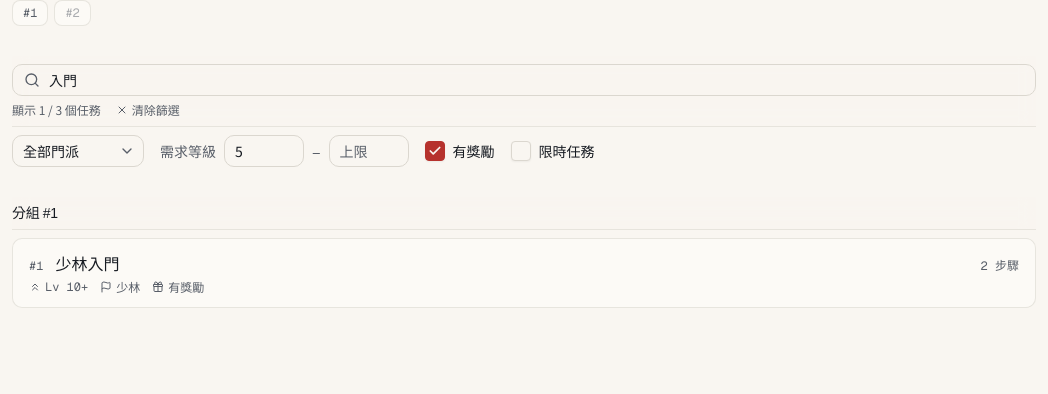
Test: MissionList 篩選 ↔ URL › 清除篩選保留搜尋字
The width and height of the screenshot is (1048, 394).
Click the button "清除篩選" at (148, 110), box [109,98,187,122]
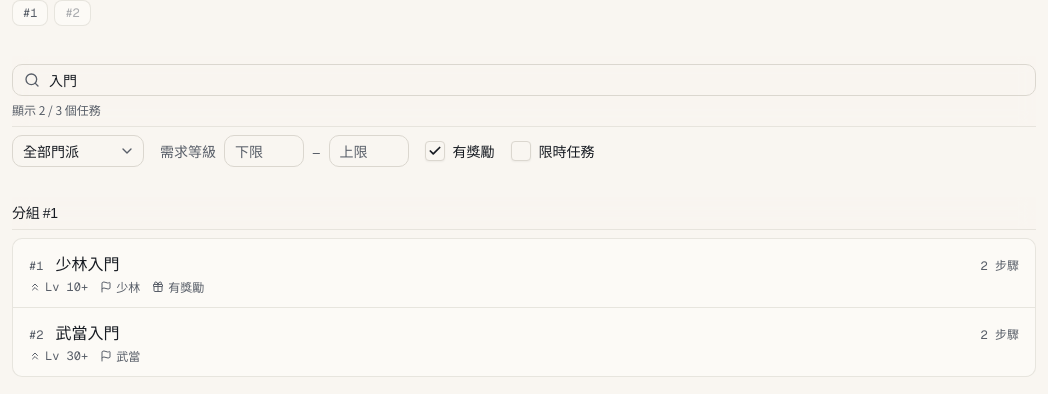
expect the search field with placeholder "搜尋任務名稱或 ID…" holds "入門": met, box [12,64,1036,96]
expect the number field named "需求等級下限" is not empty: met, box [224,135,304,167]
